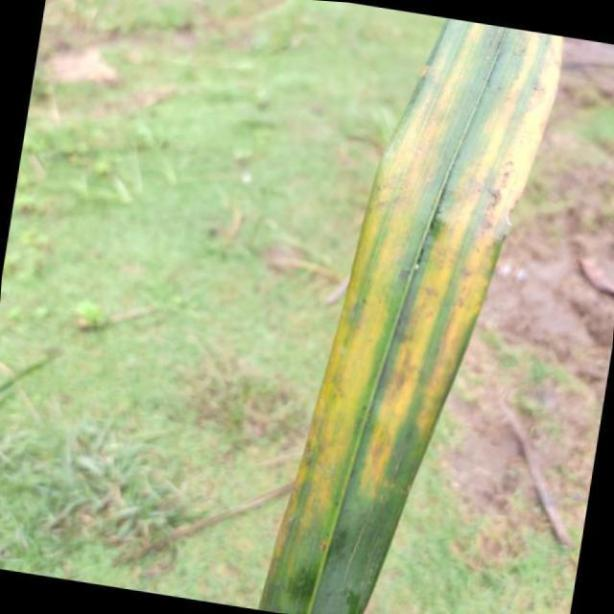Megnesium: (259, 16, 564, 614)
